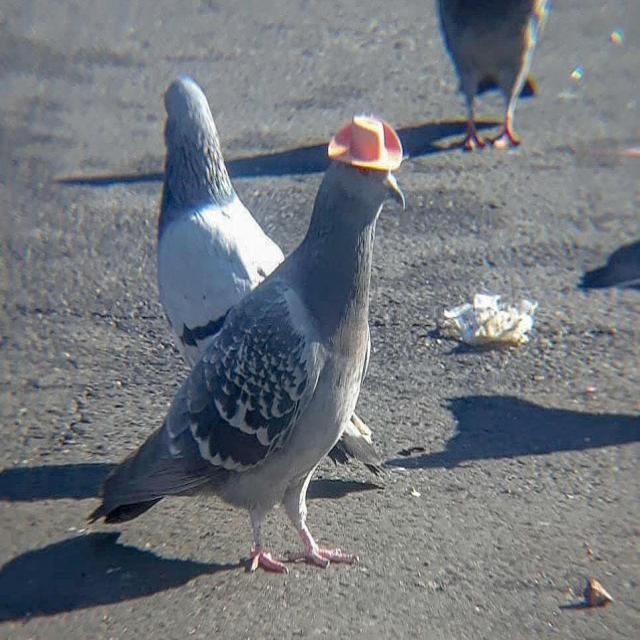pigeon: (95, 161, 405, 571), (158, 76, 284, 364), (436, 0, 549, 149)
